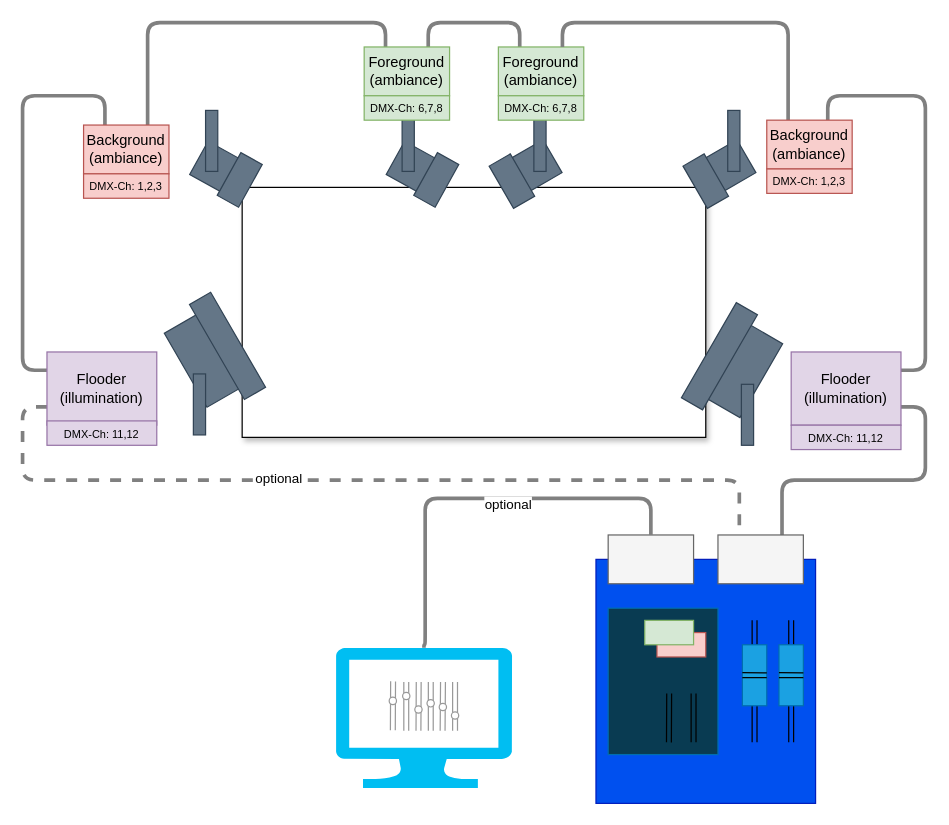
Some shapes in this 949 by 825 pixel diagram are drawn without their labels. The shapes that lost their labels are listed below. From the top down, each one's centre as x and y in pixels, then its label:
At [474,313]: "STAGE".
At [650,559]: "Ethernet".
At [760,559]: "In / Out DMX".
